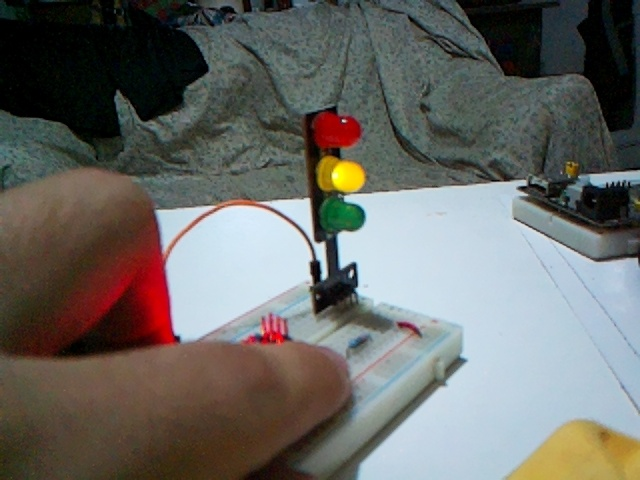traffic_light_yellow: (306, 110, 367, 309)
